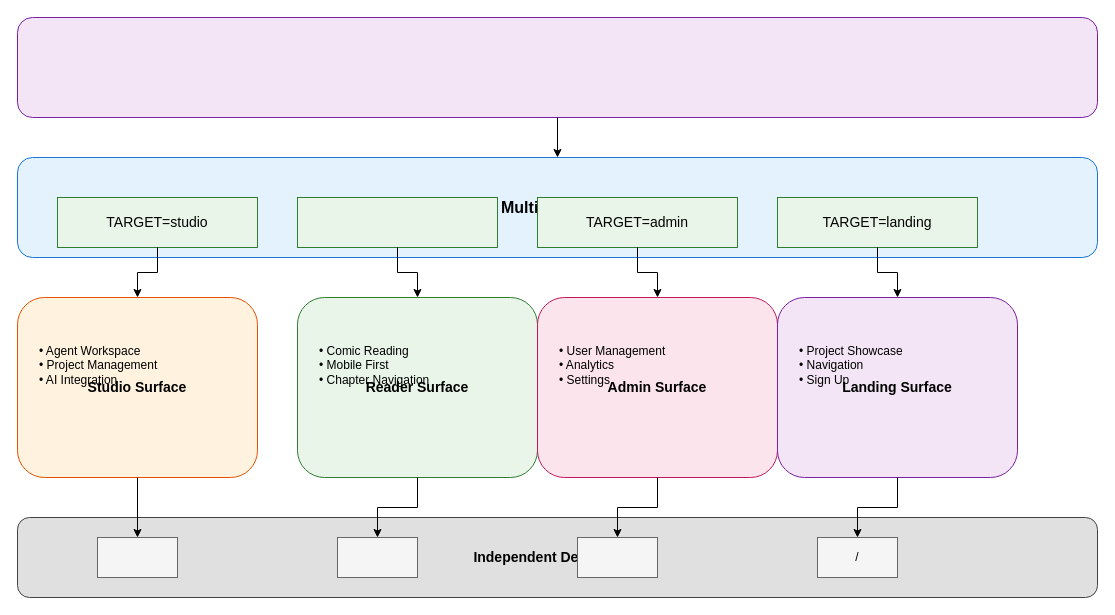
Image size: 1115x615. Some labels were removed from this diagram. The shapes that lost their labels are listed below. From the top down, each one's centre as x and y in pixels, then its label:
(x=557, y=67): Single Codebase AI Comic Studio Monorepo
(x=397, y=222): TARGET=reader
(x=137, y=557): /studio/
(x=377, y=557): /reader/
(x=617, y=557): /admin/
